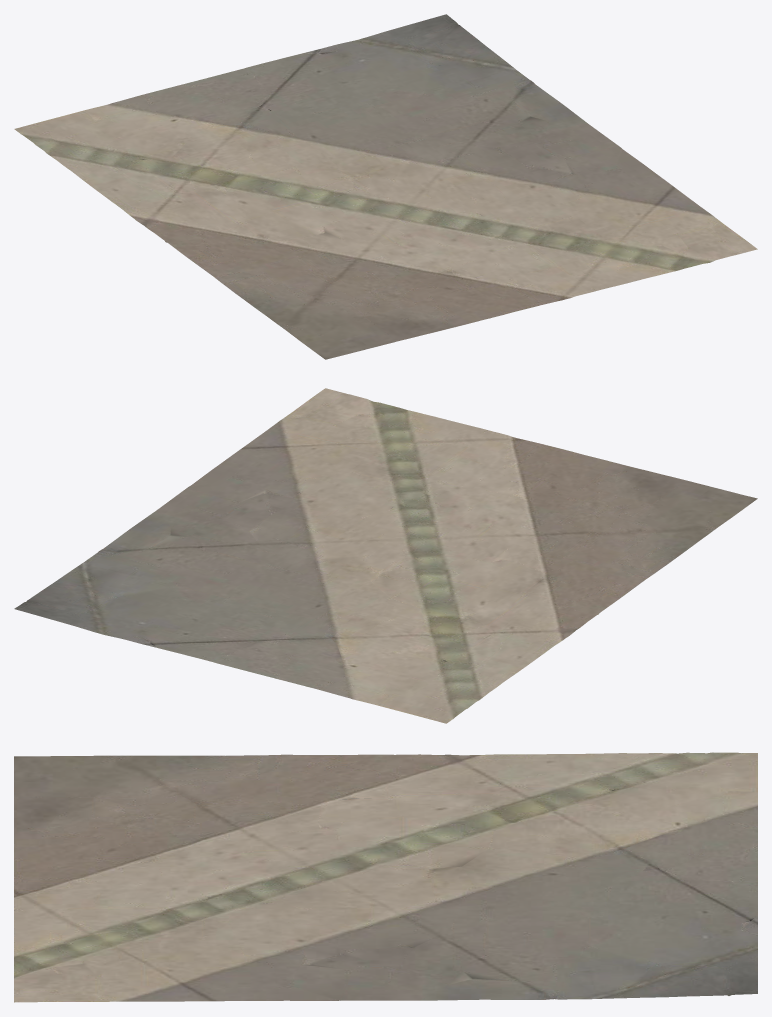
3 views of the same model, one above another, from view 1: azimuth 30°, elevation 25°; view 2: azimuth 150°, elevation 25°; view 3: azimuth 270°, elevation 25° (orthographic). The views are drawn at different scales.
Size of the model in its own units: 3.35 by 0.0896 by 4.18.
1 material, 1 textured.
